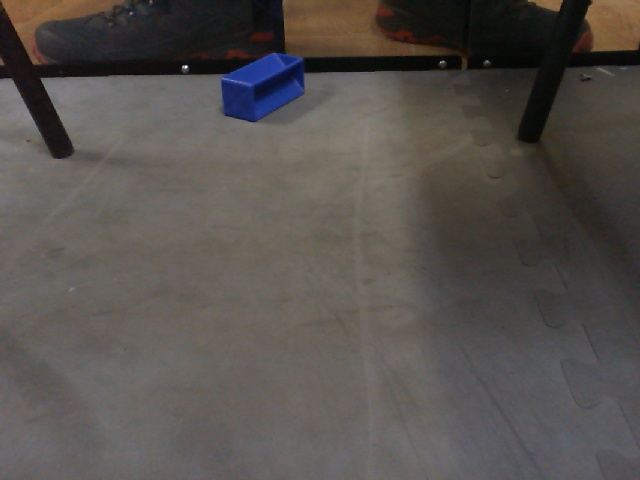BlueSample: (212, 52, 315, 123)
